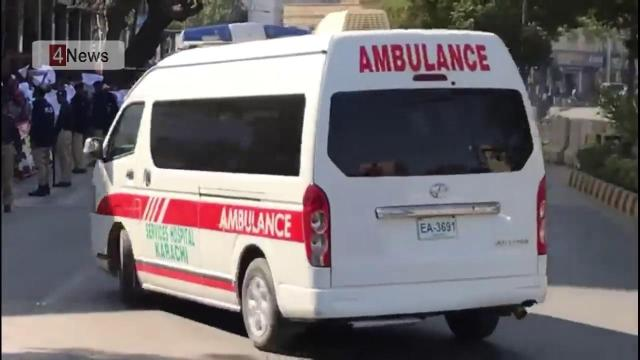police_car: (94, 7, 553, 341)
